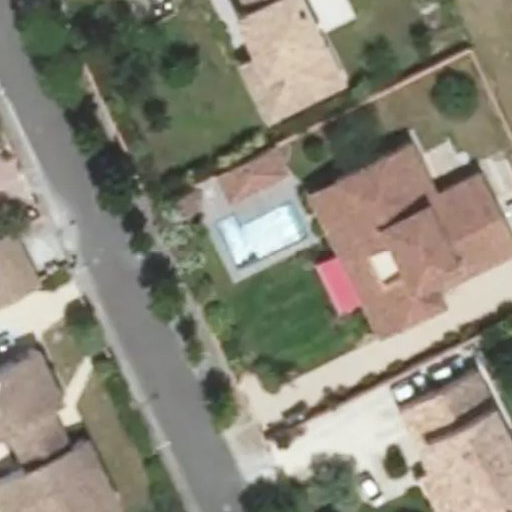pool: (211, 229, 300, 242)
